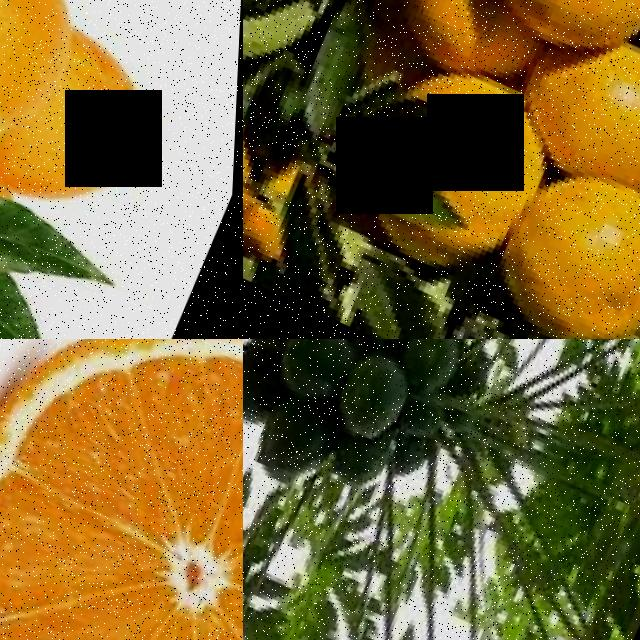orange: (0, 339, 243, 640), (391, 65, 568, 288), (17, 15, 183, 225), (489, 152, 640, 339), (511, 30, 640, 198), (489, 0, 640, 73)
pawpaw: (252, 381, 352, 493), (332, 339, 423, 446), (269, 339, 366, 408), (243, 339, 303, 427), (397, 339, 472, 392)
